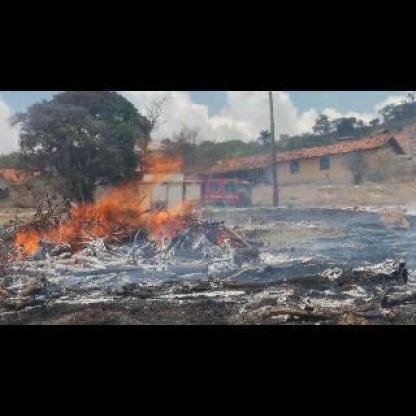fire: (9, 137, 194, 258)
